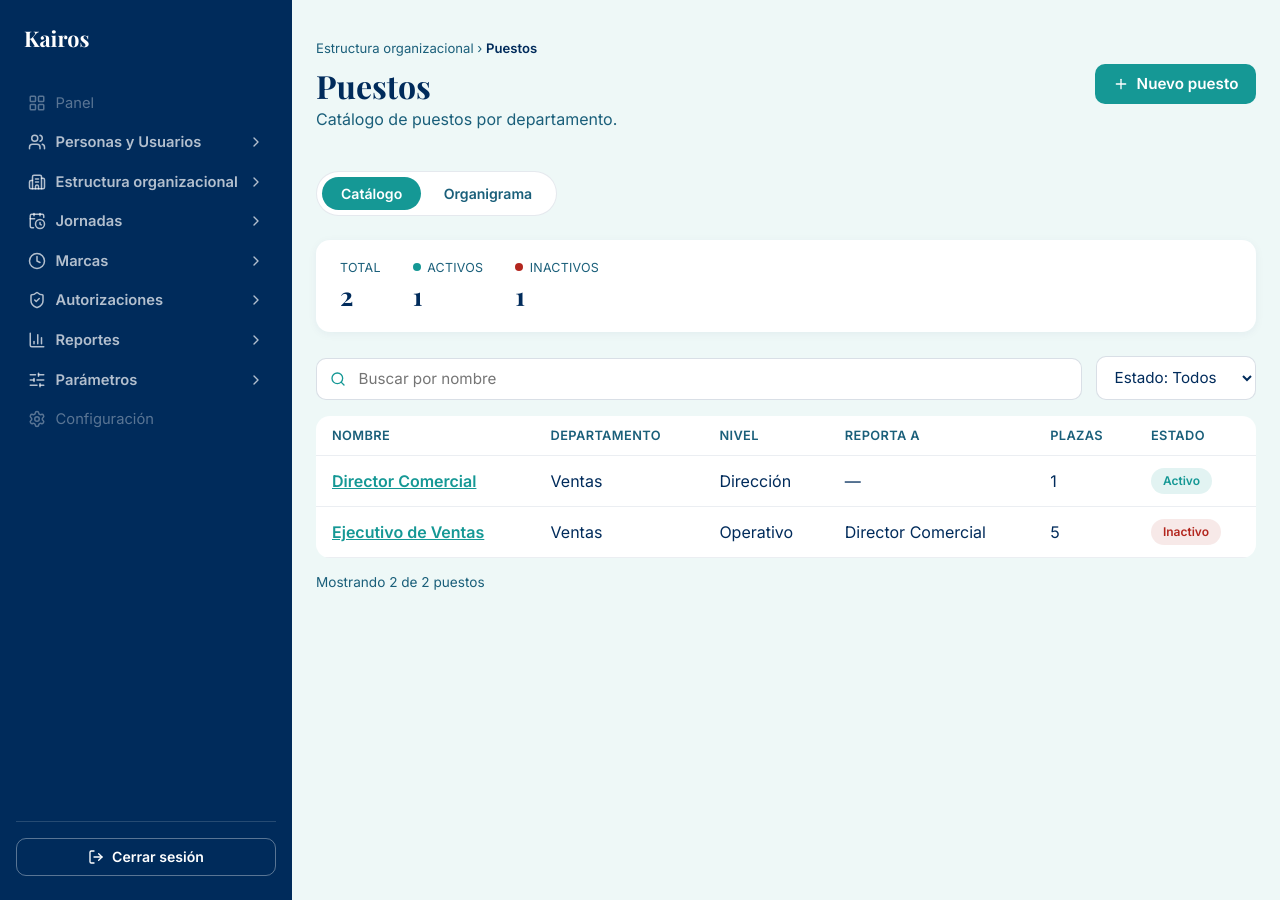
it: DirectorioPuestosPage › organigrama (híbrido: árbol grande con toggle + click filtra el catálogo) › por defecto muestra el catálogo; la pestaña 'Organigrama' muestra el árbol de puestos
expect the link "Director Comercial" is shown: met, box [332, 471, 476, 491]
Click the tab "Organigrama": (488, 193) [425, 177, 551, 210]
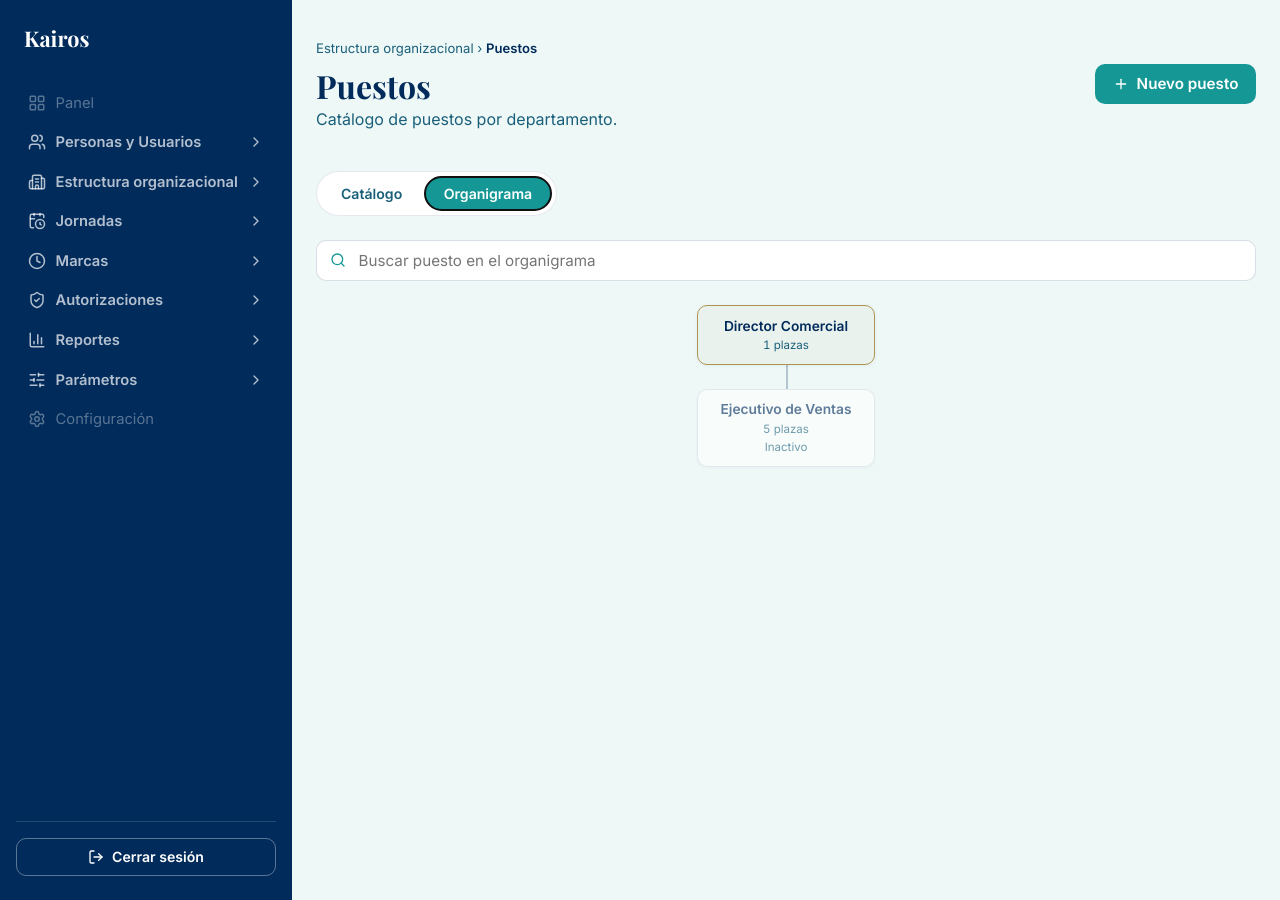
expect the text "Director Comercial" is shown: met, box [724, 318, 848, 334]
expect the cell is gone: met
